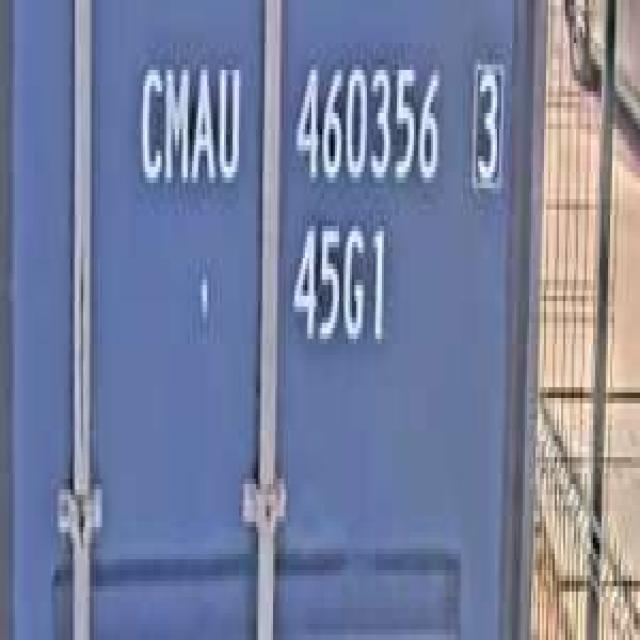dv: (465, 43, 508, 199)
owner: (132, 43, 243, 204)
serial: (290, 43, 444, 199)
size: (286, 210, 390, 360)
